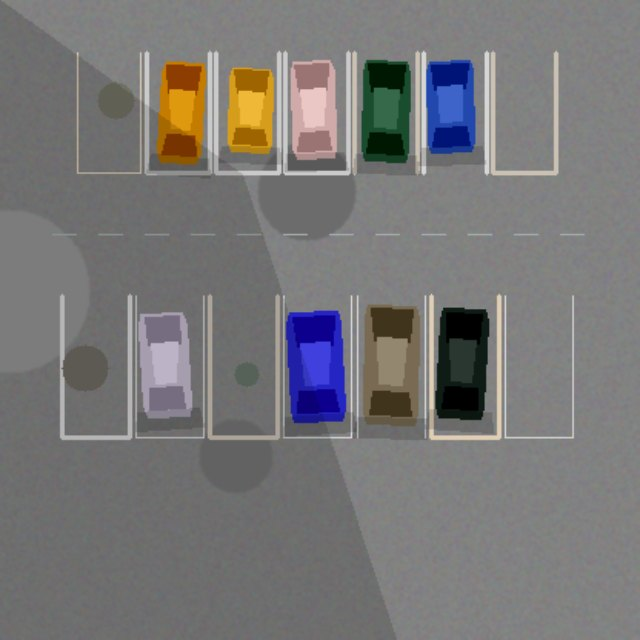space-empty: (209, 295, 277, 437), (62, 295, 129, 437), (505, 295, 572, 437), (77, 52, 140, 172), (492, 52, 555, 172)
space-occupied: (135, 295, 203, 437), (283, 295, 351, 437), (357, 295, 425, 437), (431, 295, 498, 437), (146, 52, 209, 172), (215, 52, 278, 172), (285, 52, 348, 172), (354, 52, 417, 172), (423, 52, 486, 172)
